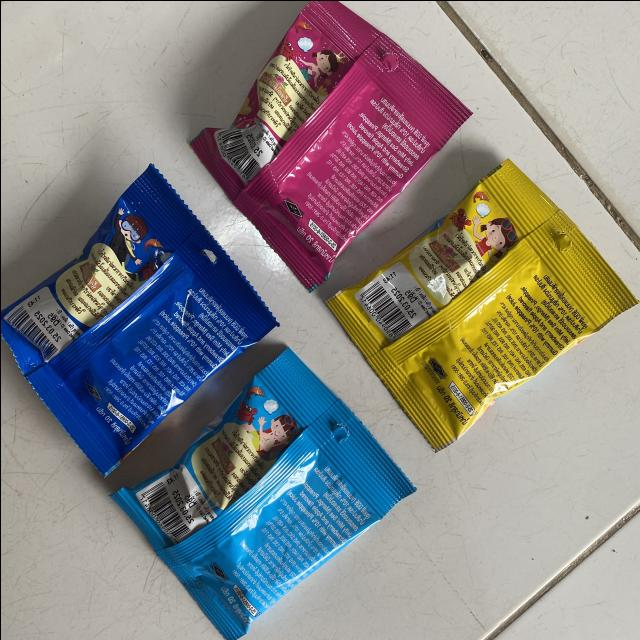plastik: (326, 159, 637, 449), (112, 348, 414, 640), (0, 164, 276, 475), (189, 0, 471, 288)
